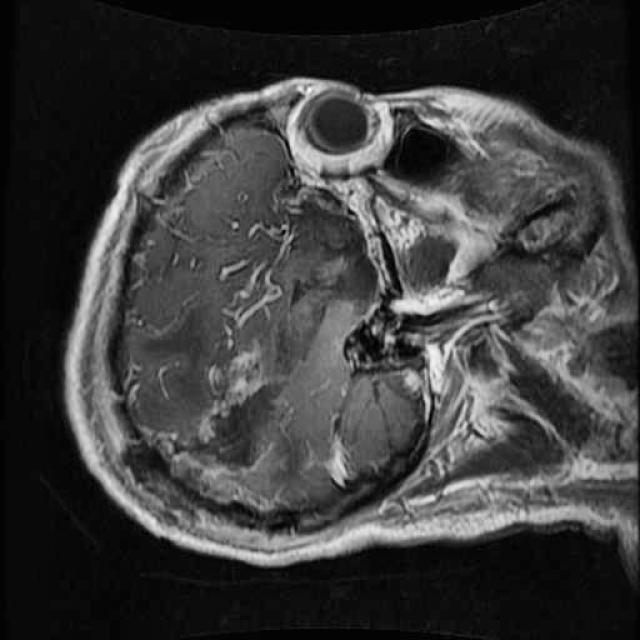Tumor: (164, 356, 321, 493)
